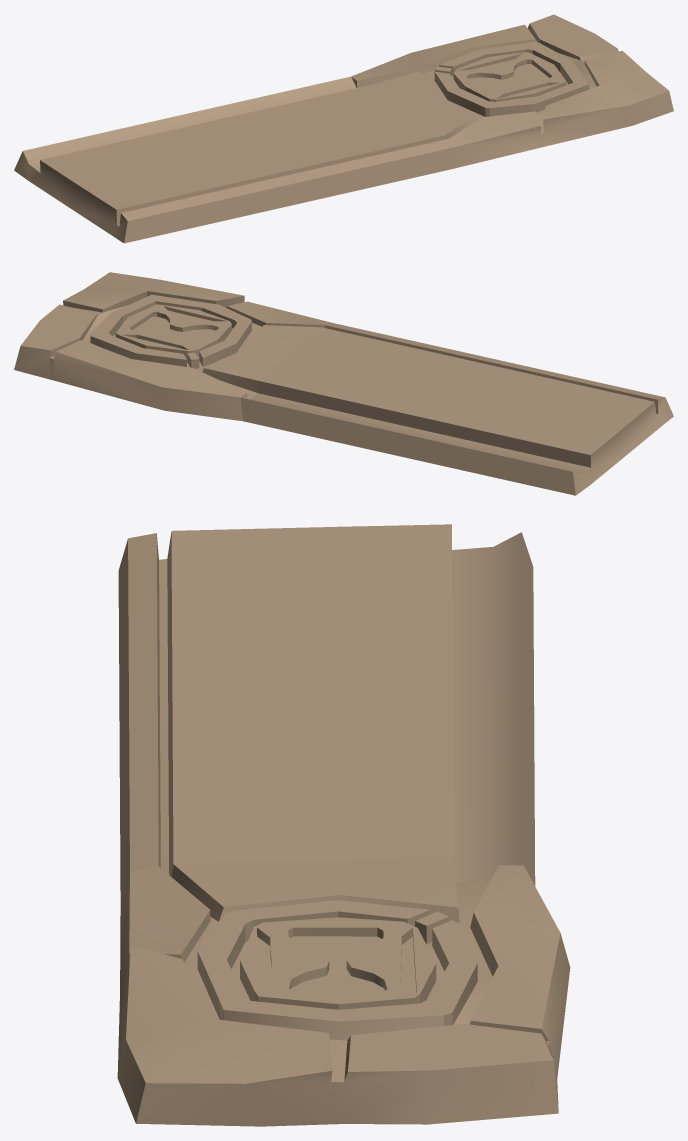
The model's file is Hourglass.FBX.
3 renders of one model, top to bottom at view 1: azimuth 30°, elevation 25°; view 2: azimuth 150°, elevation 25°; view 3: azimuth 270°, elevation 25°, orthographic. The views are drawn at different scales.
Visible parts, largest first — view 1: pattern004, Object584; view 2: pattern004, Object584; view 3: pattern004, Object584.
Part boxes in pixels (x1,y1,x2,y2): pattern004: [14, 14, 673, 243]; Object584: [117, 28, 596, 226]; pattern004: [14, 272, 673, 495]; Object584: [50, 305, 657, 415]; pattern004: [117, 524, 570, 1126]; Object584: [159, 559, 549, 1082].
Size of the model in its own units: 35.16 by 1.8 by 12.28.
